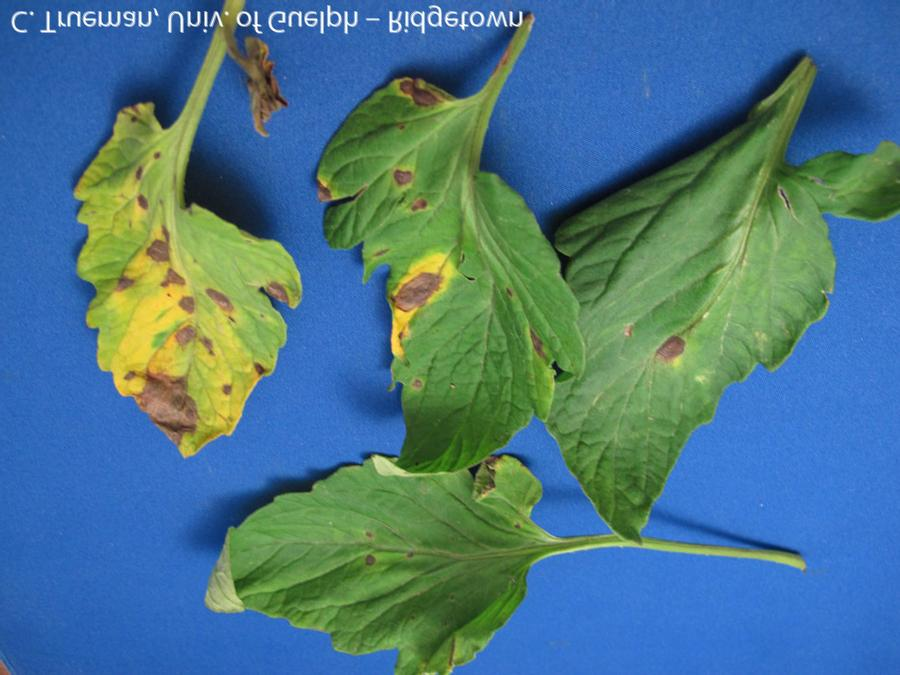Tomato Early blight leaf: (548, 27, 884, 546), (313, 55, 574, 477), (153, 442, 577, 671), (64, 70, 294, 468)
